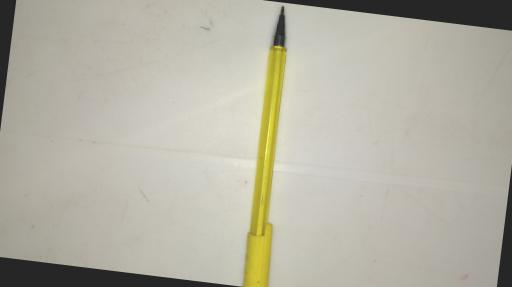pen: (242, 2, 305, 287)
